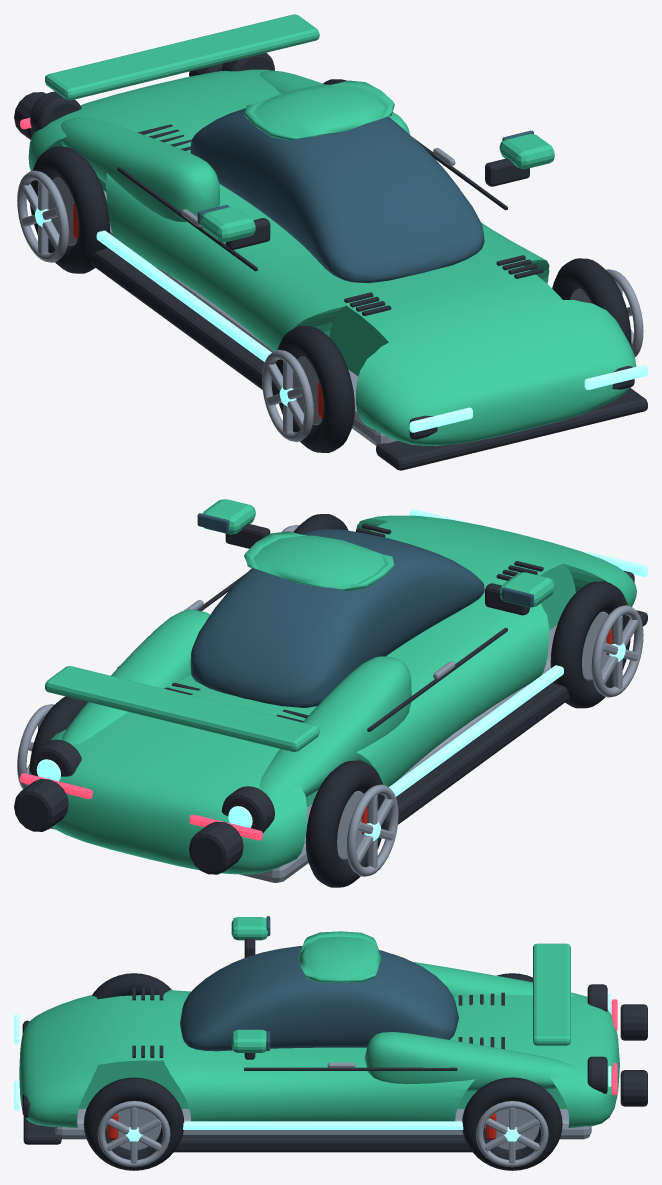
The model's file is Comet.fbx.
3 views of the same model, one above another, from view 1: azimuth 30°, elevation 25°; view 2: azimuth 150°, elevation 25°; view 3: azimuth 270°, elevation 25° (orthographic). The views are drawn at different scales.
Parts seen in each view (by area): view 1: Body_Comet, Glass_Cockpit, Body_RearButtress, Body_AeroBridge, Body_Roof, Carbon_SideSkirt, Wheel_LFront, Wheel_LRear, Carbon_FrontSplitter, Wheel_RFront, Trim_Sill, WheelRim_LRear (+15 smaller); view 2: Body_Comet, Glass_Cockpit, Body_RearButtress, Body_AeroBridge, Body_Roof, Body_RearButtress.001, Wheel_LRear, Carbon_SideSkirt, Wheel_LFront, Trim_Sill, Exhaust_Nozzle, Exhaust_Nozzle.001 (+15 smaller); view 3: Body_Comet, Glass_Cockpit, Body_RearButtress.001, Carbon_SideSkirt.001, Wheel_RRear, Wheel_RFront, Body_AeroBridge, Body_Roof, Body_Undertray, Trim_Sill.001, Body_RearButtress, WheelRim_RFront (+12 smaller).
Part boxes in pixels (x1,y1,x2,y2): Body_Comet: (28, 69, 636, 446); Glass_Cockpit: (190, 108, 484, 283); Body_RearButtress: (60, 117, 219, 222); Body_AeroBridge: (45, 14, 319, 100); Body_Roof: (244, 80, 394, 140); Carbon_SideSkirt: (90, 247, 276, 395); Wheel_LFront: (275, 326, 354, 452); Wheel_LRear: (30, 146, 109, 273); Carbon_FrontSplitter: (376, 388, 647, 470); Wheel_RFront: (552, 258, 631, 346); Trim_Sill: (96, 230, 271, 362); WheelRim_LRear: (17, 170, 68, 262); Body_Comet: (29, 515, 636, 874); Glass_Cockpit: (190, 529, 484, 707); Body_RearButtress: (259, 656, 411, 797); Body_AeroBridge: (45, 666, 319, 751); Body_Roof: (244, 531, 394, 591); Body_RearButtress.001: (61, 609, 210, 745); Wheel_LRear: (305, 760, 385, 887); Carbon_SideSkirt: (384, 682, 569, 830); Wheel_LFront: (550, 581, 630, 708); Trim_Sill: (389, 665, 563, 796); Exhaust_Nozzle: (189, 821, 243, 874); Exhaust_Nozzle.001: (14, 779, 68, 831); Body_Comet: (19, 990, 619, 1127); Glass_Cockpit: (180, 946, 458, 1051); Body_RearButtress.001: (364, 1032, 577, 1091); Carbon_SideSkirt.001: (174, 1135, 471, 1152); Wheel_RRear: (462, 1077, 562, 1170); Wheel_RFront: (83, 1077, 184, 1170); Body_AeroBridge: (533, 943, 570, 1045); Body_Roof: (298, 931, 381, 982); Body_Undertray: (54, 1109, 591, 1139); Trim_Sill.001: (183, 1121, 463, 1129); Body_RearButtress: (412, 961, 576, 997); WheelRim_RFront: (97, 1101, 170, 1167).
Size of the model in its own units: 198 by 121 by 416.
